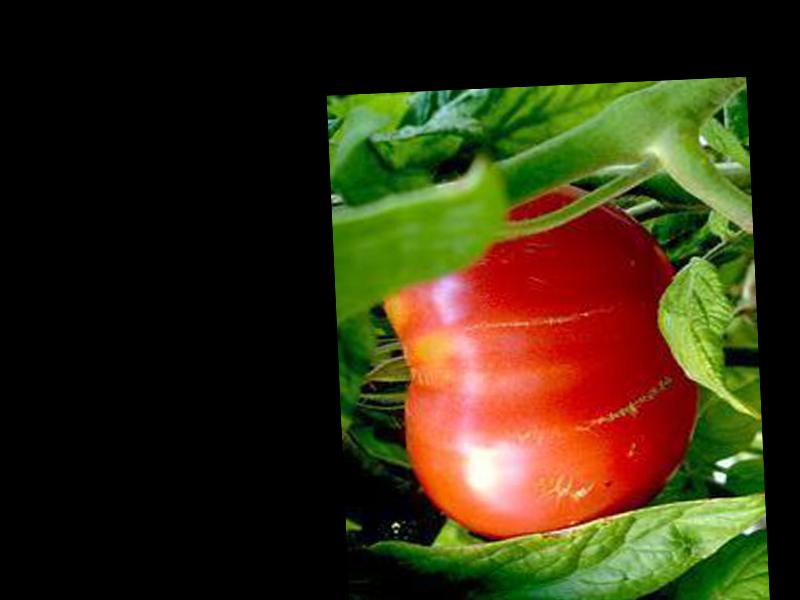Tomato: (377, 180, 703, 547)
